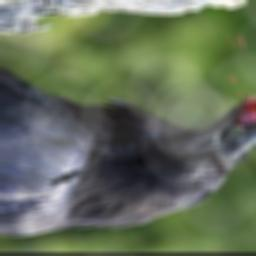Crow: (0, 0, 256, 238)
